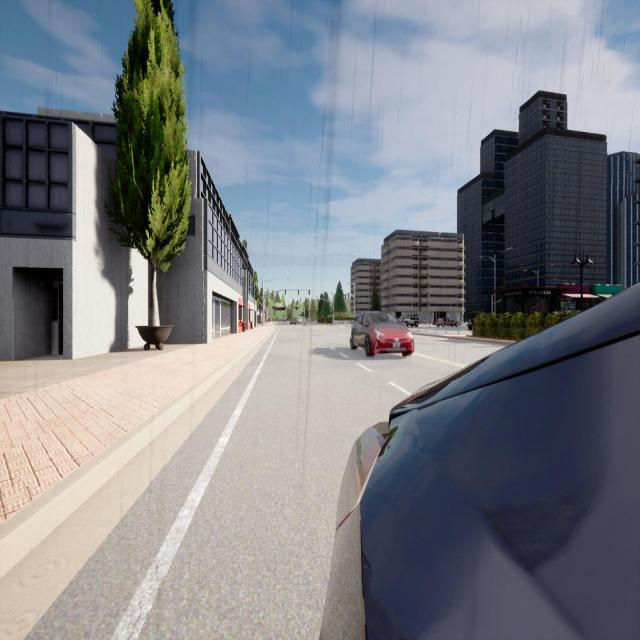Vehicle: (321, 284, 639, 638), (350, 312, 414, 356), (399, 315, 418, 327), (437, 318, 458, 327), (468, 316, 473, 329), (291, 318, 296, 325)
traffic_light: (332, 310, 334, 314), (308, 290, 310, 294), (298, 290, 299, 295), (345, 294, 346, 299), (300, 298, 301, 302), (308, 298, 309, 302), (285, 290, 286, 294), (348, 294, 349, 298), (318, 299, 318, 302)
